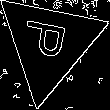P_E: (21, 21, 76, 67)
